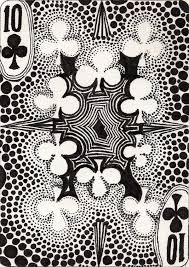ten of clubs: (3, 3, 188, 267)
